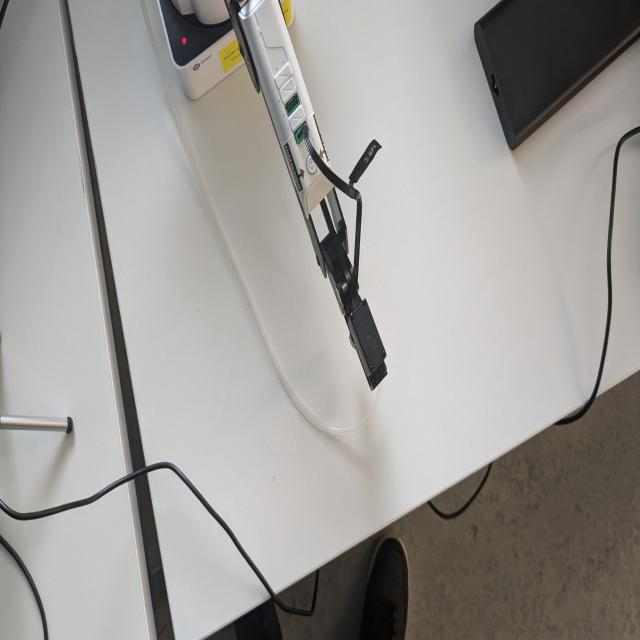Robot-end-effector-HF8z: (347, 294, 390, 394)
